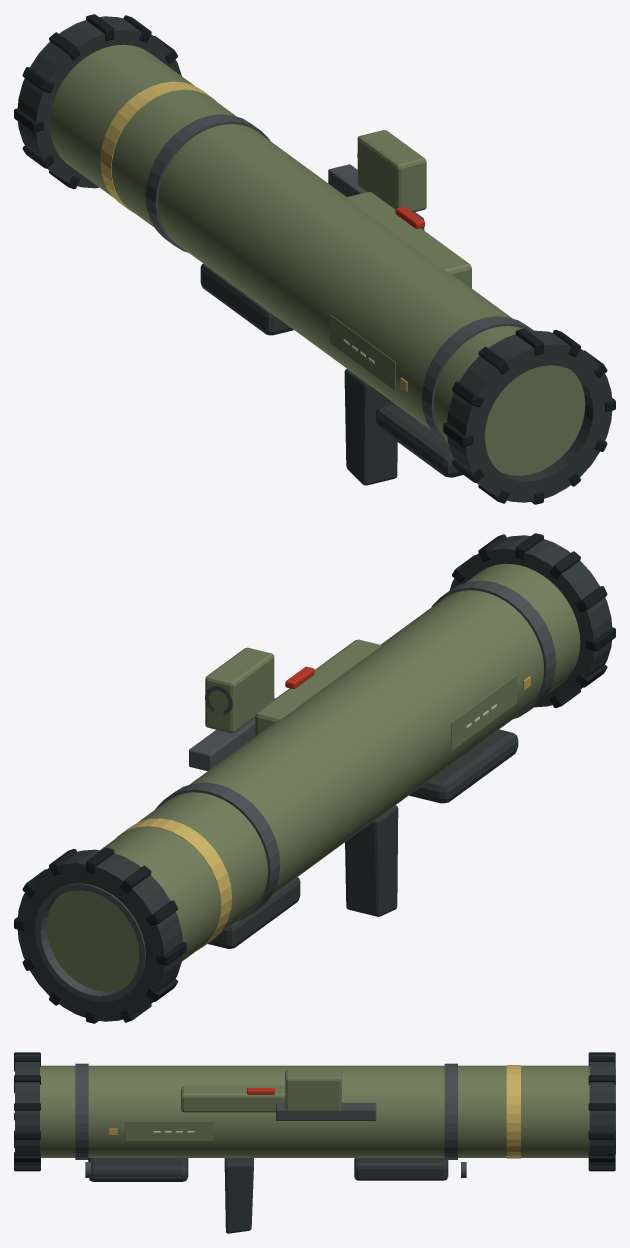
The model's file is rocket_4.glb.
The picture shows the model from 3 angles, top to bottom: view 1: azimuth 30°, elevation 25°; view 2: azimuth 150°, elevation 25°; view 3: azimuth 270°, elevation 25°; orthographic projection. The views are drawn at different scales.
Visible parts, largest first — view 1: Weapon_rocket_realism_v2; view 2: Weapon_rocket_realism_v2; view 3: Weapon_rocket_realism_v2.
Part boxes in pixels (<box>): Weapon_rocket_realism_v2: <box>14,14,615,504</box>; Weapon_rocket_realism_v2: <box>14,533,615,1023</box>; Weapon_rocket_realism_v2: <box>14,1052,615,1233</box>.
Bounding box in the file's own units: 0.2075 × 0.3179 × 0.9615.
